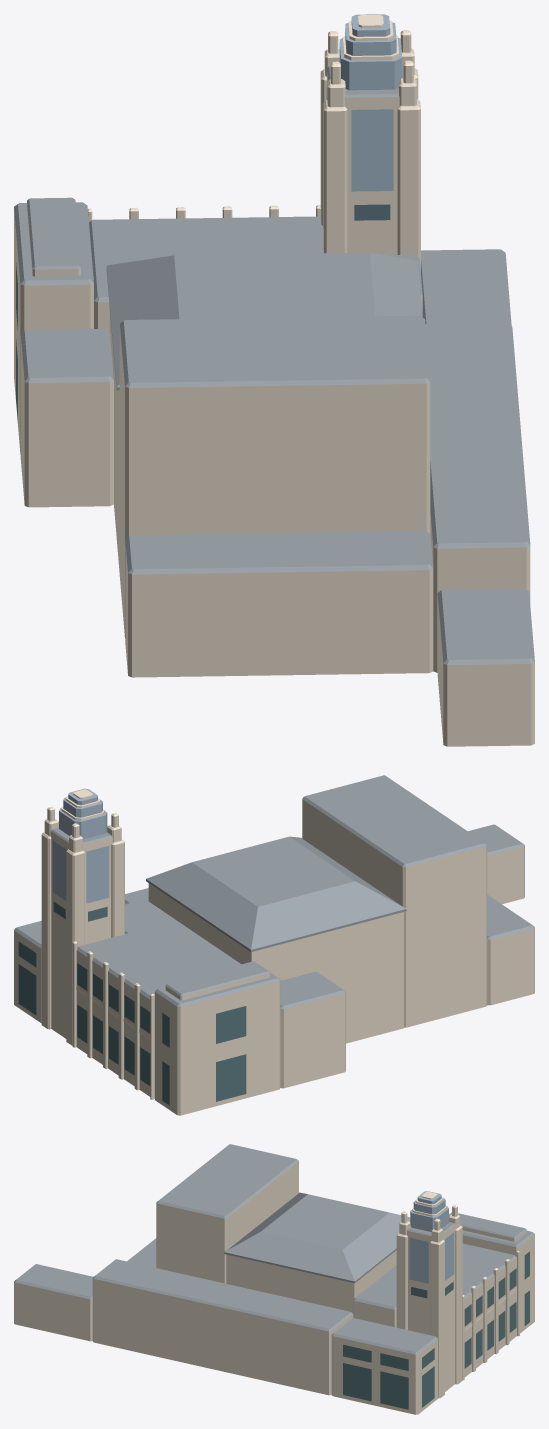
3 renders of one model, top to bottom at view 1: azimuth 30°, elevation 25°; view 2: azimuth 150°, elevation 25°; view 3: azimuth 270°, elevation 25°, orthographic. The views are drawn at different scales.
Parts seen in each view (by area): view 1: the-smith-center-for-the-performing-arts; view 2: the-smith-center-for-the-performing-arts; view 3: the-smith-center-for-the-performing-arts.
Boxes of the visible parts, box(x1,y1,x2,y2) form: the-smith-center-for-the-performing-arts: box(14, 14, 534, 746); the-smith-center-for-the-performing-arts: box(14, 775, 534, 1115); the-smith-center-for-the-performing-arts: box(14, 1144, 534, 1414).
Size of the model in its own units: 87.96 by 52 by 130.
